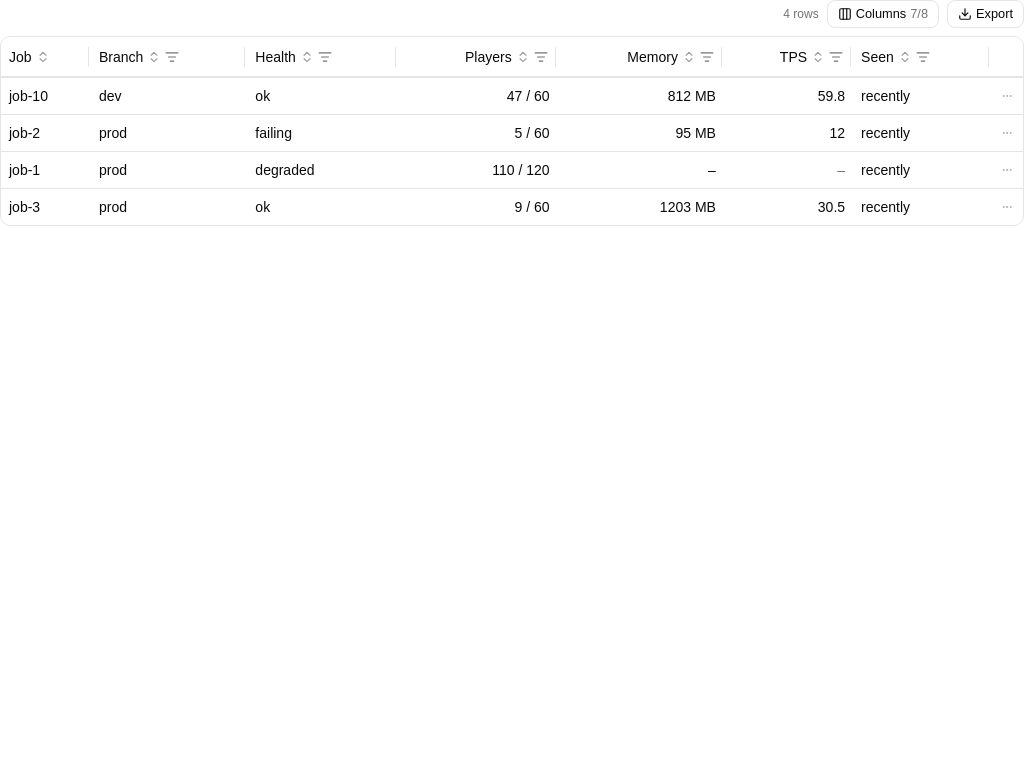
DataTable search and filters › filters a number column by a range of its numbers
The width and height of the screenshot is (1024, 768).
Step 1. Click the button named "Filter Memory" → point(707, 57), box [698,48,716,66]
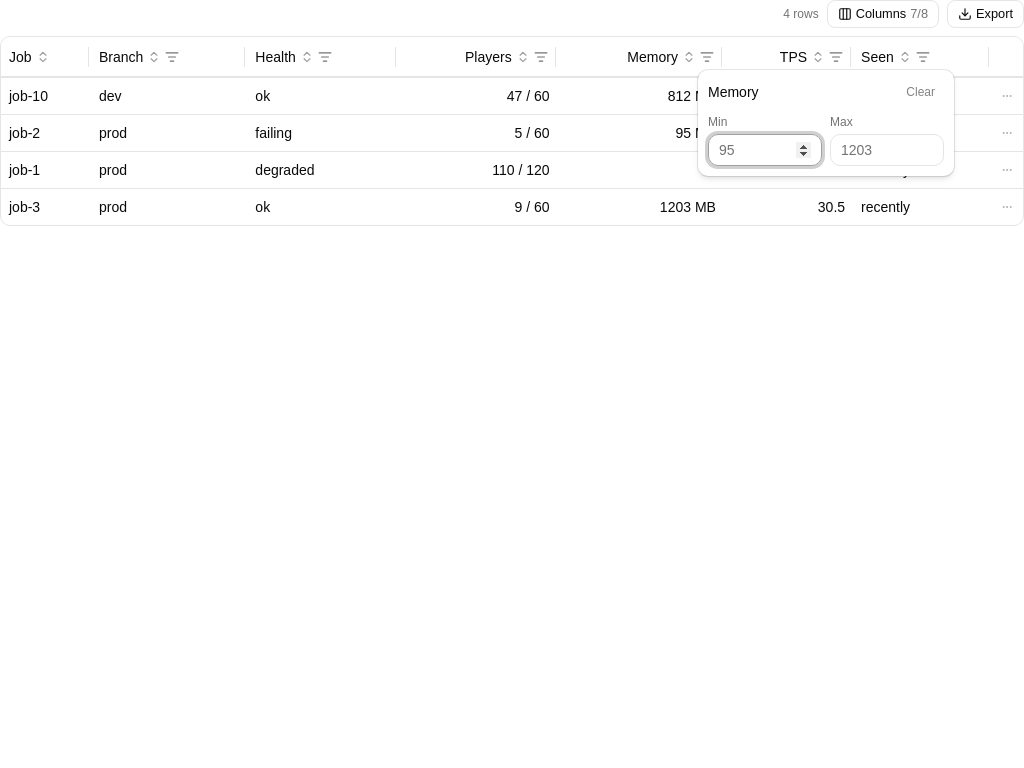
Step 2. Type "100" into the number field labelled "Min" → point(765, 150), box [708,134,822,166]
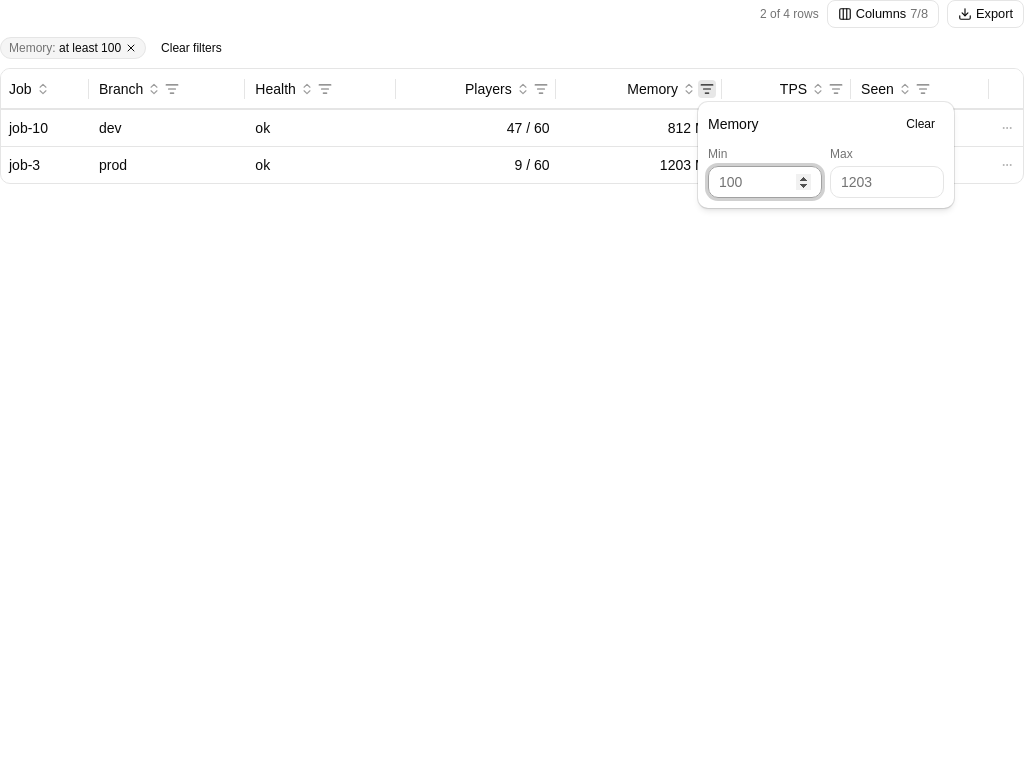
Step 3. Type "900" into the number field labelled "Max" → point(887, 182), box [830,166,944,198]
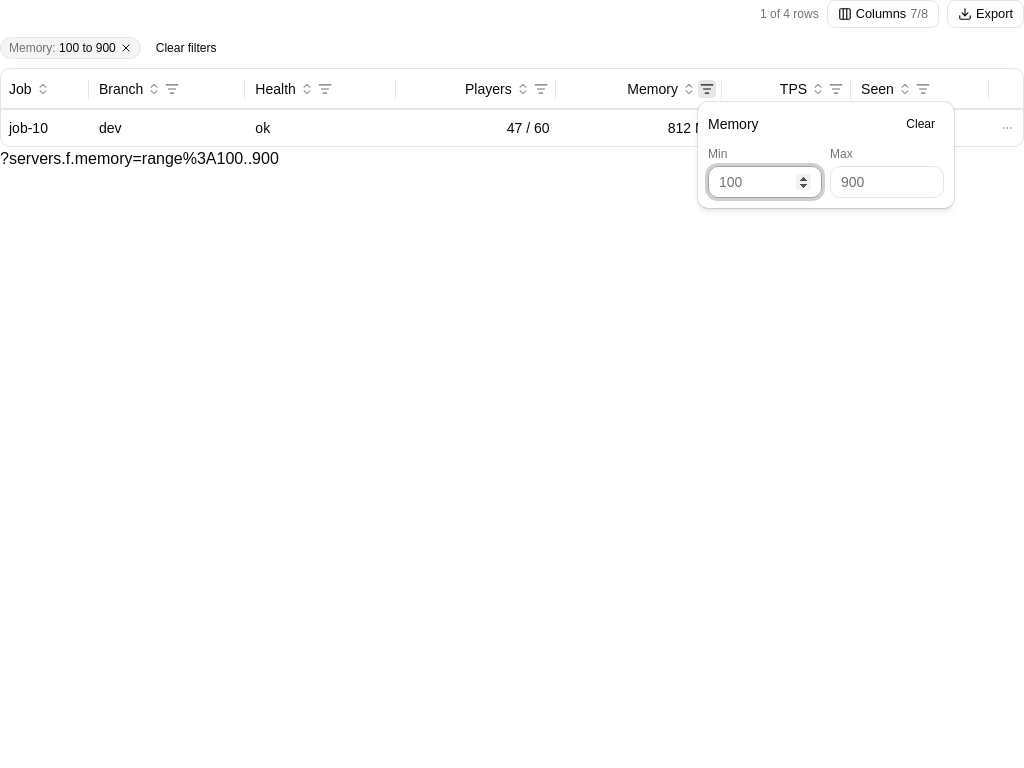
Result: the button with aria-label "Remove filter Memory: 100 to 900" is shown at [0,37,141,59]
